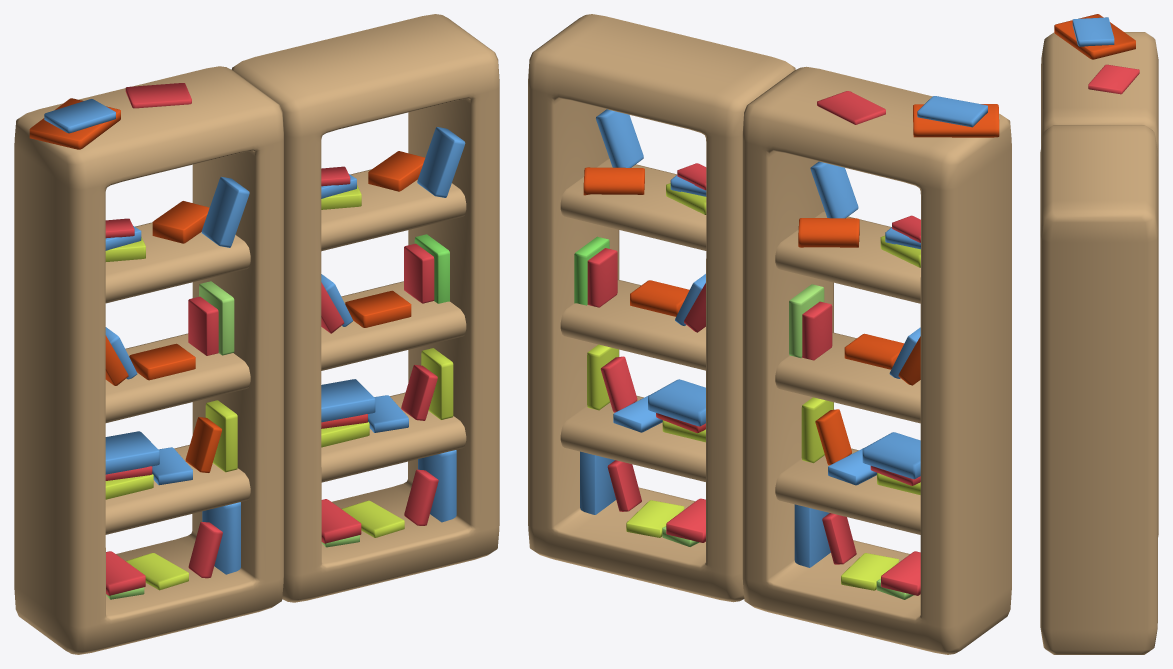
File: l-text-Bücherregal-2.glb
3 renders of one model, left to right at view 1: azimuth 30°, elevation 25°; view 2: azimuth 150°, elevation 25°; view 3: azimuth 270°, elevation 25°, orthographic. The views are drawn at different scales.
Parts seen in each view (by area): view 1: Shelf_With_Extra_Books.009; view 2: Shelf_With_Extra_Books.009; view 3: Shelf_With_Extra_Books.009.
Boxes of the visible parts, left/top/right/bottom form: Shelf_With_Extra_Books.009: left=14, top=14, right=499, bottom=654; Shelf_With_Extra_Books.009: left=528, top=14, right=1011, bottom=654; Shelf_With_Extra_Books.009: left=1040, top=14, right=1158, bottom=654.
Size of the model in its own units: 1.84 by 2.06 by 0.4794.
